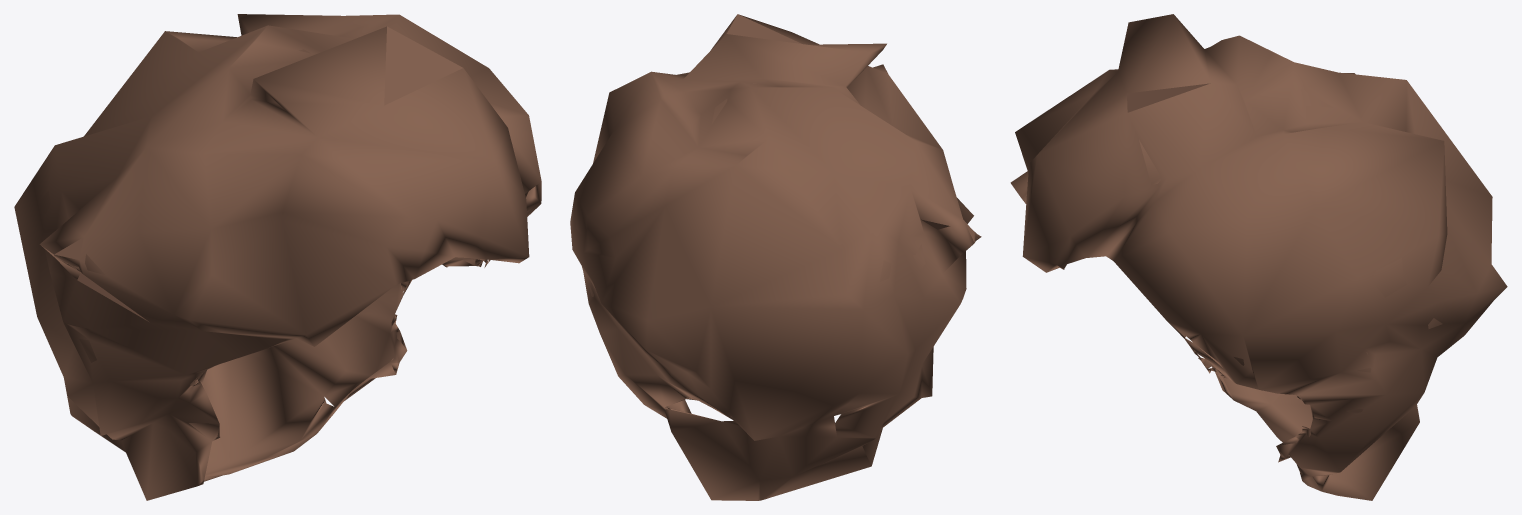
Rendered from Hair_medium_LOD0.glb.
3 renders of one model, left to right at view 1: azimuth 30°, elevation 25°; view 2: azimuth 150°, elevation 25°; view 3: azimuth 270°, elevation 25°, orthographic. The views are drawn at different scales.
Visible parts, largest first — view 1: Hair_medium_LOD0; view 2: Hair_medium_LOD0; view 3: Hair_medium_LOD0.
Part boxes in pixels (x1,y1,x2,y2): Hair_medium_LOD0: (14,14,541,500); Hair_medium_LOD0: (570,14,981,500); Hair_medium_LOD0: (1010,14,1507,500).
Size of the model in its own units: 0.3091 by 0.3037 by 0.3051.
